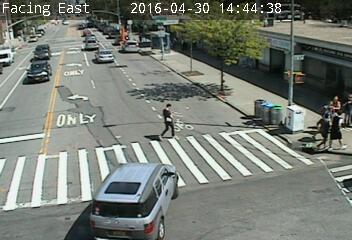neg: (63, 122, 97, 167), (80, 58, 113, 103), (209, 85, 237, 122), (128, 161, 152, 193), (272, 183, 296, 215), (8, 134, 31, 164), (304, 42, 326, 71), (251, 35, 273, 64), (144, 31, 165, 59), (224, 149, 245, 177), (50, 20, 70, 46), (23, 58, 41, 83), (205, 32, 223, 55)
pos: (147, 98, 183, 145), (303, 110, 331, 146), (329, 110, 351, 142), (327, 89, 348, 117)
